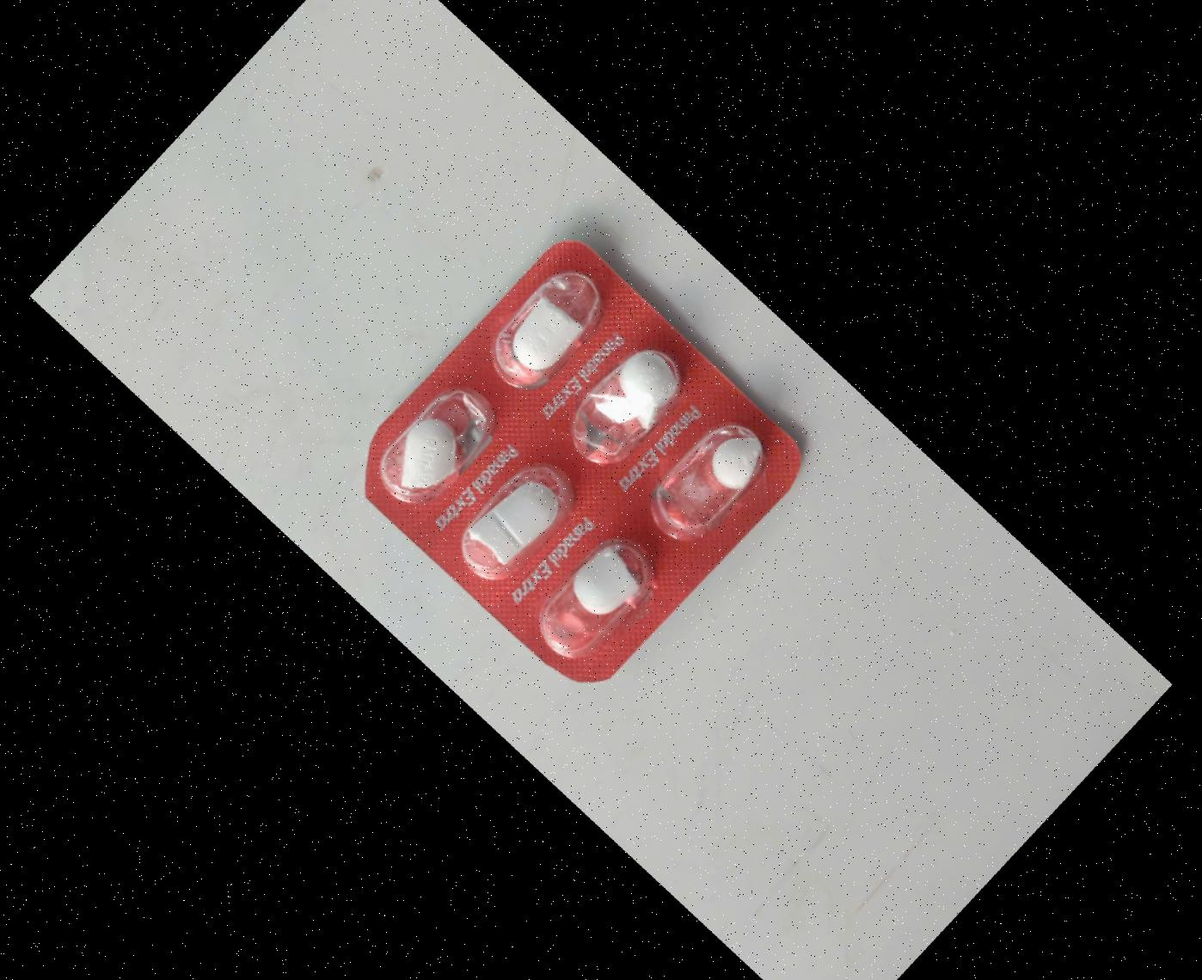Partial: (506, 514, 674, 680), (427, 435, 595, 601), (554, 321, 722, 487), (466, 248, 634, 414), (346, 363, 513, 529), (618, 401, 786, 566)
